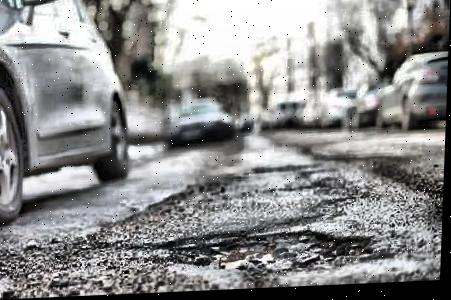pothole: (162, 213, 376, 282)
